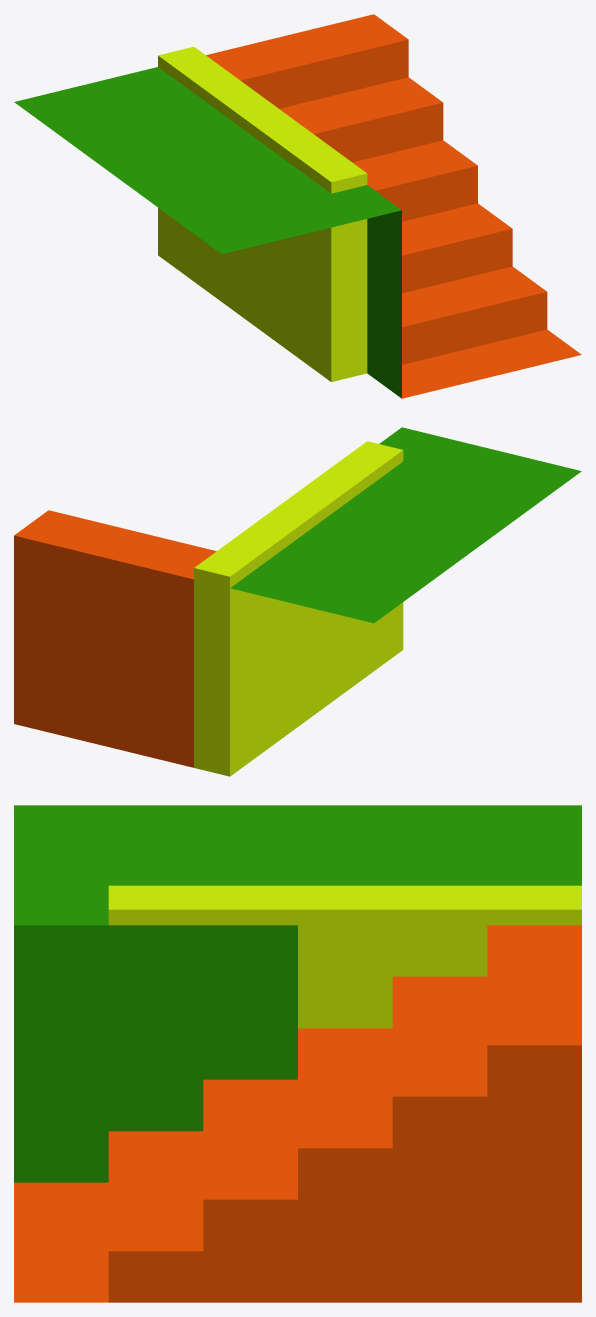
The picture shows the model from 3 angles, top to bottom: view 1: azimuth 30°, elevation 25°; view 2: azimuth 150°, elevation 25°; view 3: azimuth 270°, elevation 25°; orthographic projection. The views are drawn at different scales.
Visible parts, largest first — view 1: T_7_4_0; view 2: T_7_4_0; view 3: T_7_4_0.
Part boxes in pixels (x1,y1,x2,y2): T_7_4_0: (14, 14, 581, 398); T_7_4_0: (14, 427, 581, 776); T_7_4_0: (14, 805, 581, 1302).
Size of the model in its own units: 99.79 by 52.95 by 99.81.
